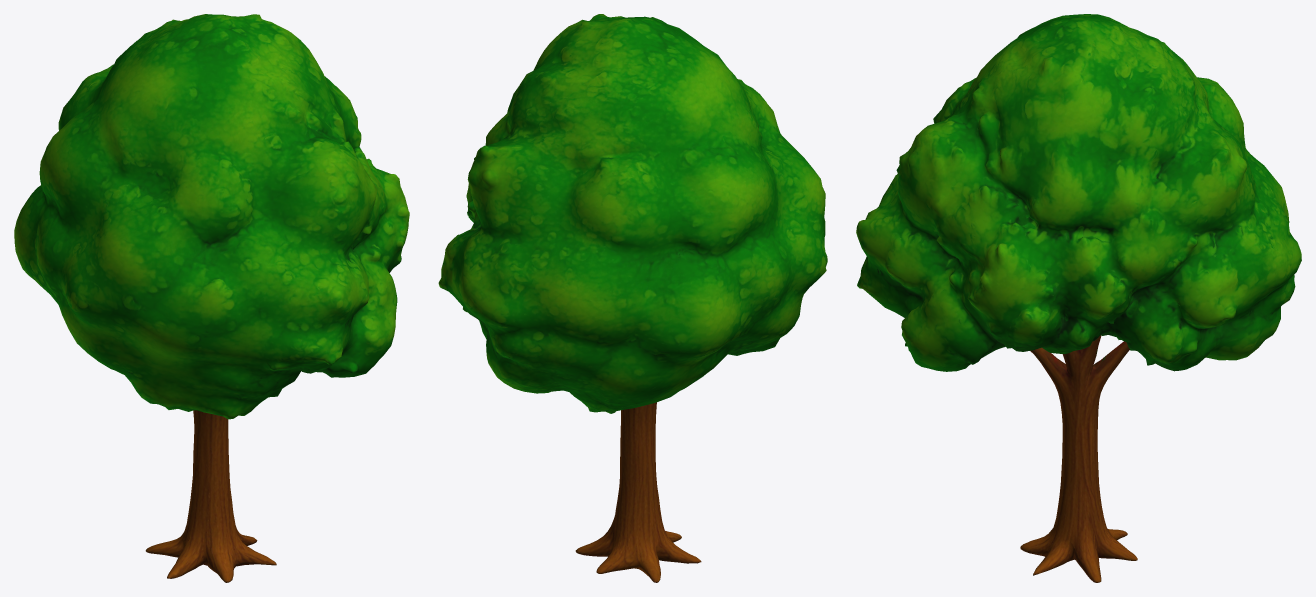
The model's file is árbol.fbx.
3 views of the same model, side by side, from view 1: azimuth 30°, elevation 25°; view 2: azimuth 150°, elevation 25°; view 3: azimuth 270°, elevation 25° (orthographic).
Visible parts, largest first — view 1: tripo_node_ca39c14c; view 2: tripo_node_ca39c14c; view 3: tripo_node_ca39c14c.
Boxes of the visible parts, box(x1,y1,x2,y2) form: tripo_node_ca39c14c: box(14, 14, 409, 582); tripo_node_ca39c14c: box(438, 14, 827, 582); tripo_node_ca39c14c: box(856, 14, 1301, 582).
Bounding box in the file's own units: 0.6389 × 0.995 × 0.7427.
1 material, 1 textured.
